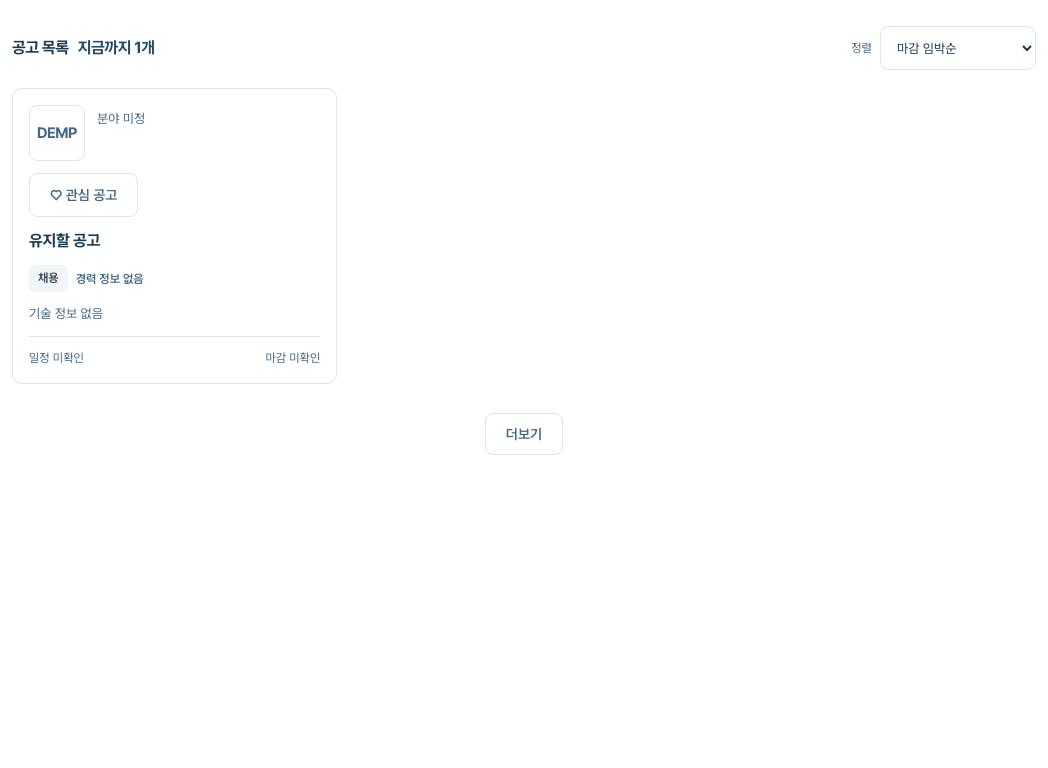
Test: 다음 페이지 실패는 기존 결과를 보존하고 추가 로딩 실패임을 설명한다
What coordinates should you click on to do the following:
click the button with test id "load-more"
I would click on:
 (524, 434)
Its box is x1=485 y1=412 x2=563 y2=455.
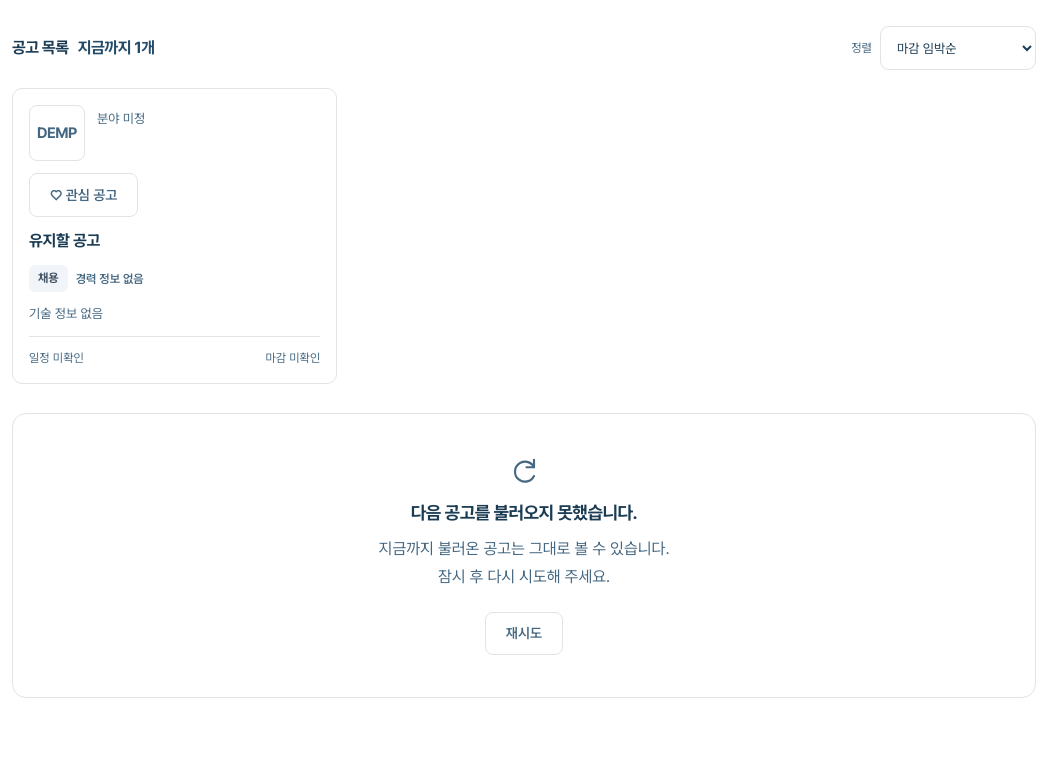
Expected: the text "유지할 공고" is shown, x1=29 y1=231 x2=100 y2=250
Expected: the message "다음 공고를 불러오지 못했습니다. 지금까지 불러온 공고는 그대로 볼 수 있습니다.잠시 후 다시 시도해 주세요. 재시도" is shown, x1=12 y1=412 x2=1036 y2=698
